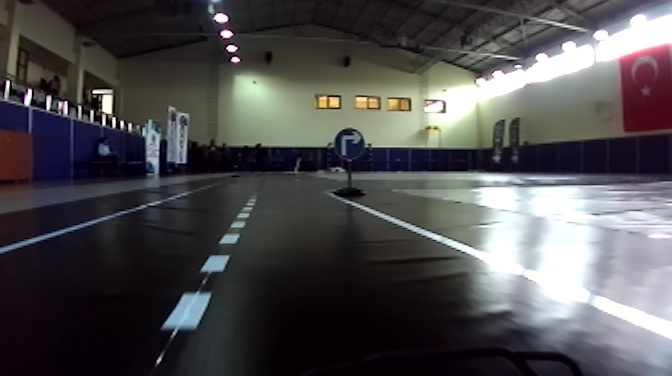saga_donus: (334, 128, 365, 162)
